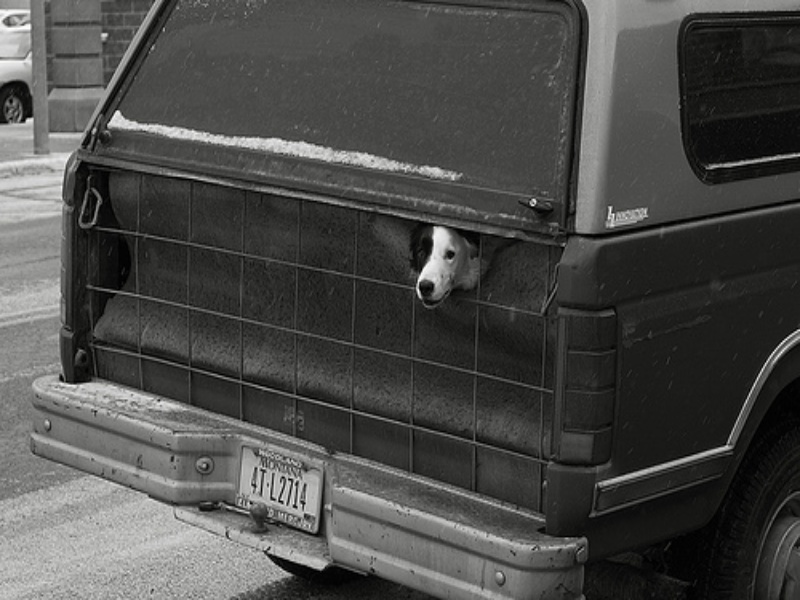car: (28, 1, 800, 600), (1, 28, 33, 125)
